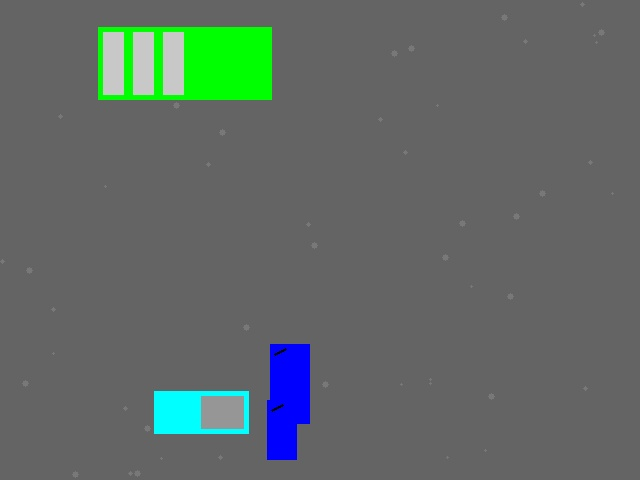bus: (98, 27, 271, 99)
motorcycle: (270, 344, 309, 423), (267, 400, 296, 459)
truck: (154, 391, 248, 433)
